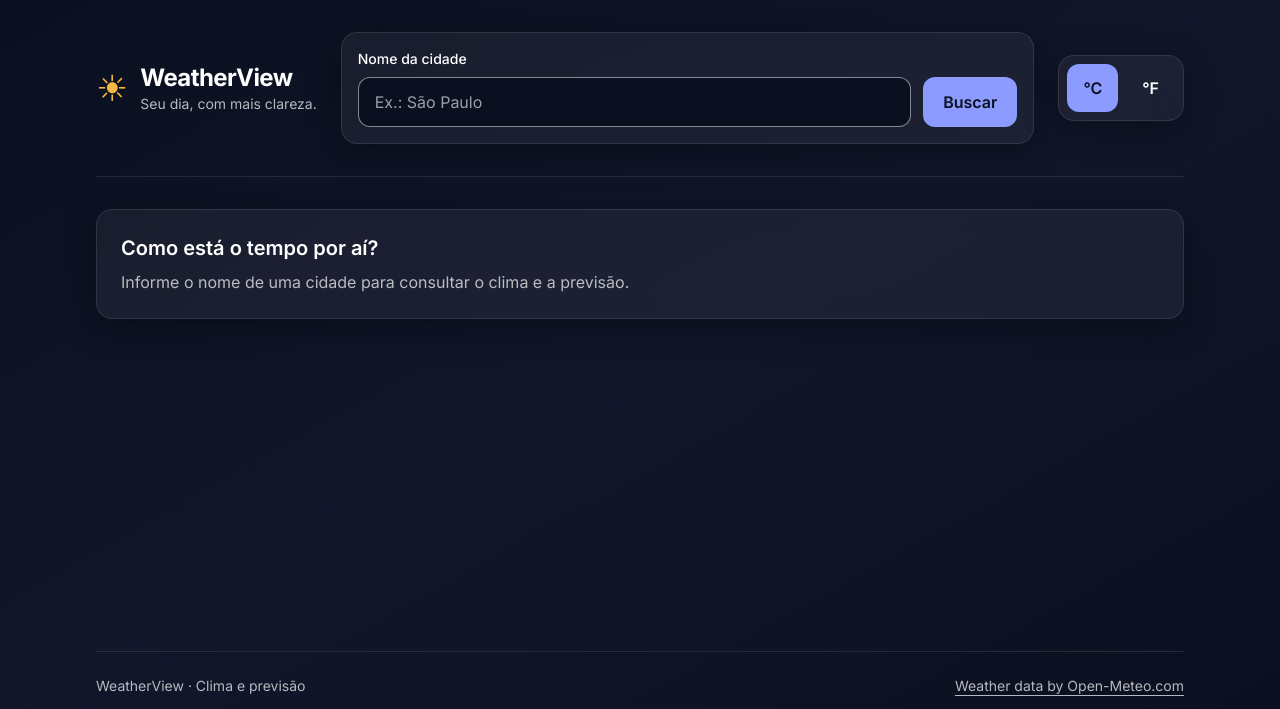
Test: App integrado ao useWeather › ErrorState refaz apenas a operação que falhou, preserva a unidade e move o foco
The image size is (1280, 709).
Click the button "°F".
click(1151, 88)  # box [1126,64,1175,112]
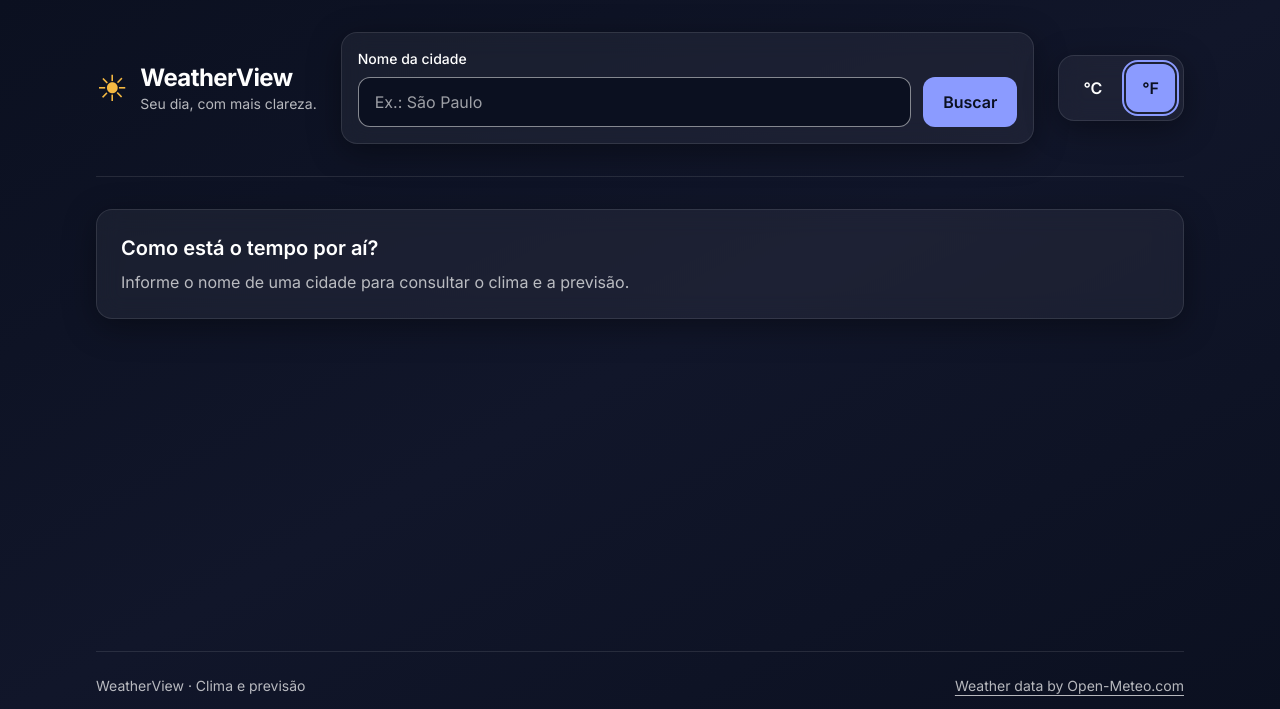
Type "São Paulo" into the search field.
click(635, 102); type("São Paulo")  # box [358,77,911,127]
Then press Enter
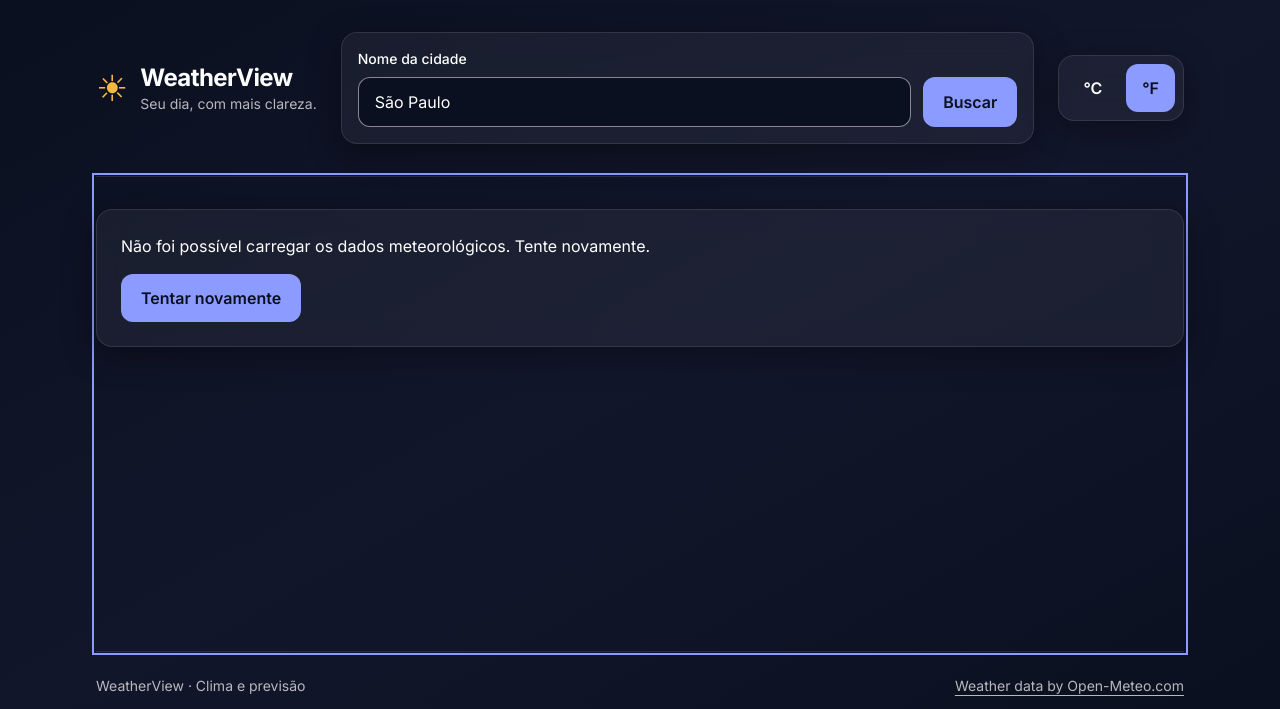
expect the text "74,3 °F" is not shown: met
expect the message reads "Não foi possível carregar os dados meteorológicos. Tente novamente.": met, box [121,236,650,256]
Click the button "Tentar novamente".
click(211, 298)  # box [121,274,301,322]
(page scrolled)
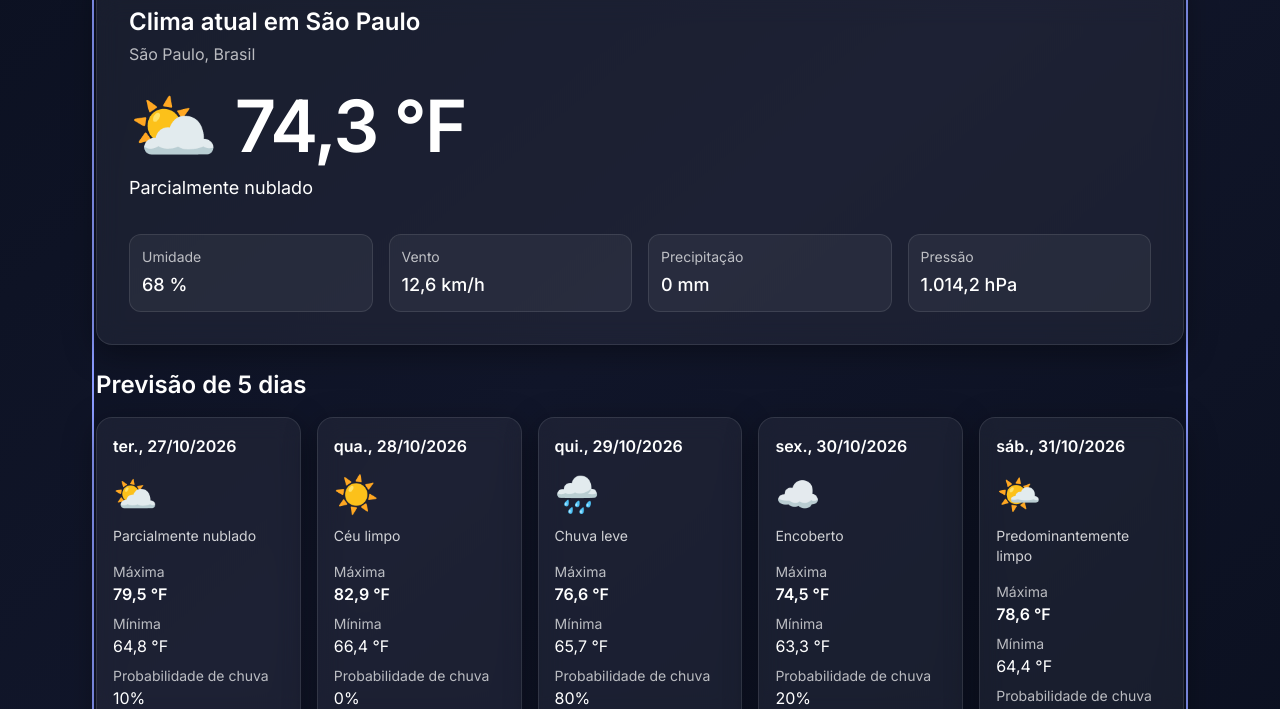
expect the text "74,3 °F" is shown: met, box [235,90,466,162]
